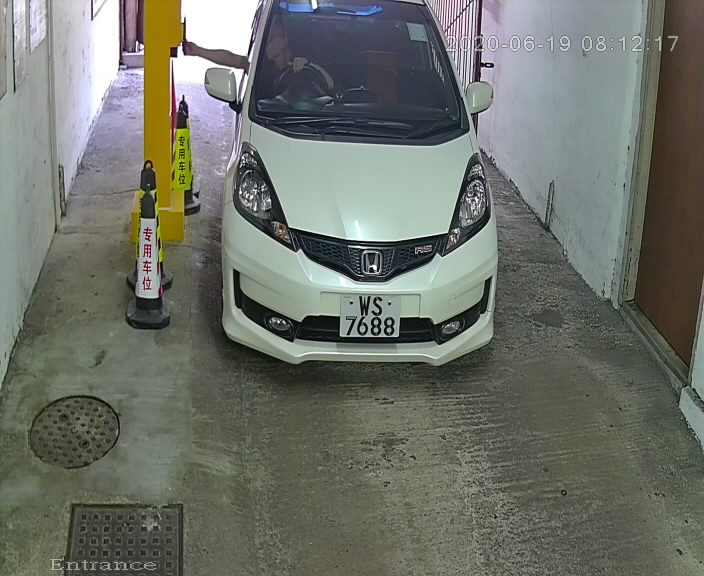bottom_left_lp: (336, 331, 344, 337)
bottom_left_radiator: (301, 252, 313, 263)
bottom_left_windshield: (242, 104, 257, 122)
bottom_right_lp: (394, 332, 401, 340)
bottom_right_radiator: (425, 258, 440, 269)
bottom_right_windshield: (458, 122, 476, 139)
brand: (359, 247, 384, 276)
left_headlight: (229, 141, 298, 250)
right_headlight: (441, 150, 496, 256)
top_left_lp: (337, 290, 346, 300)
top_left_radiator: (286, 222, 294, 232)
top_left_windshield: (263, 1, 273, 7)
top_right_lp: (395, 291, 404, 300)
top_right_radiator: (442, 227, 449, 239)
top_right_windshield: (418, 1, 427, 13)
